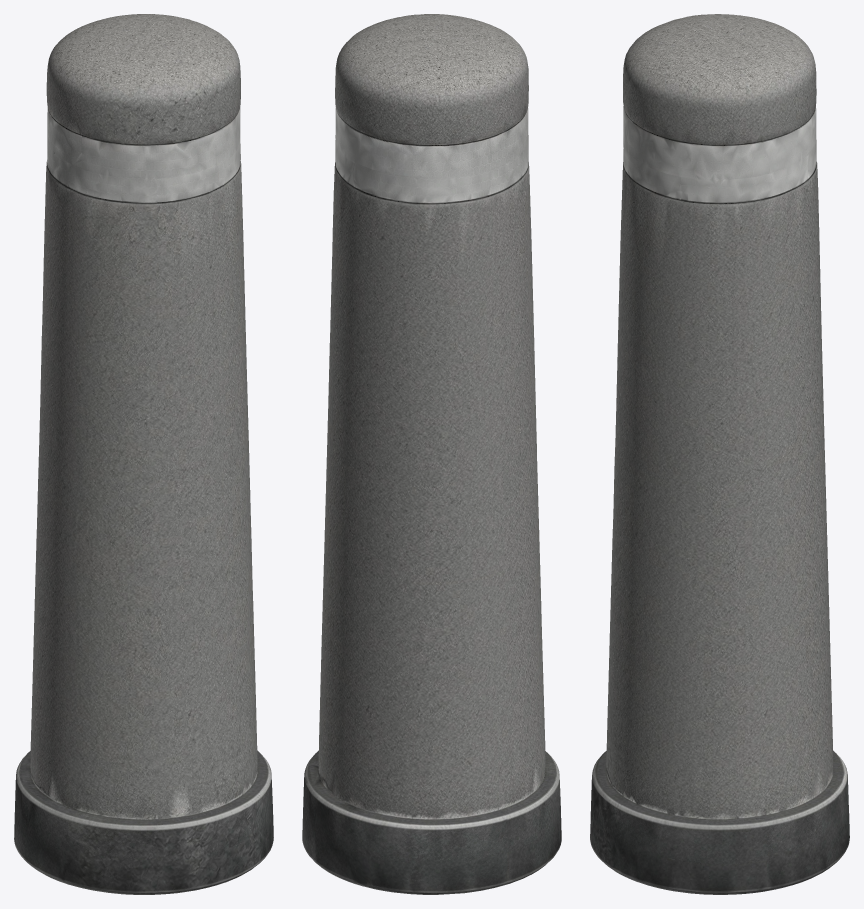
File: bollard2.glb
The picture shows the model from 3 angles, left to right: view 1: azimuth 30°, elevation 25°; view 2: azimuth 150°, elevation 25°; view 3: azimuth 270°, elevation 25°; orthographic projection.
Parts seen in each view (by area): view 1: mesh_node; view 2: mesh_node; view 3: mesh_node.
Boxes of the visible parts, x1=… form: mesh_node: x1=14, y1=14, x2=273, y2=894; mesh_node: x1=302, y1=14, x2=561, y2=894; mesh_node: x1=590, y1=14, x2=849, y2=894.
Bounding box in the file's own units: 0.5566 × 1.9 × 0.5566.
1 material, 1 textured.
